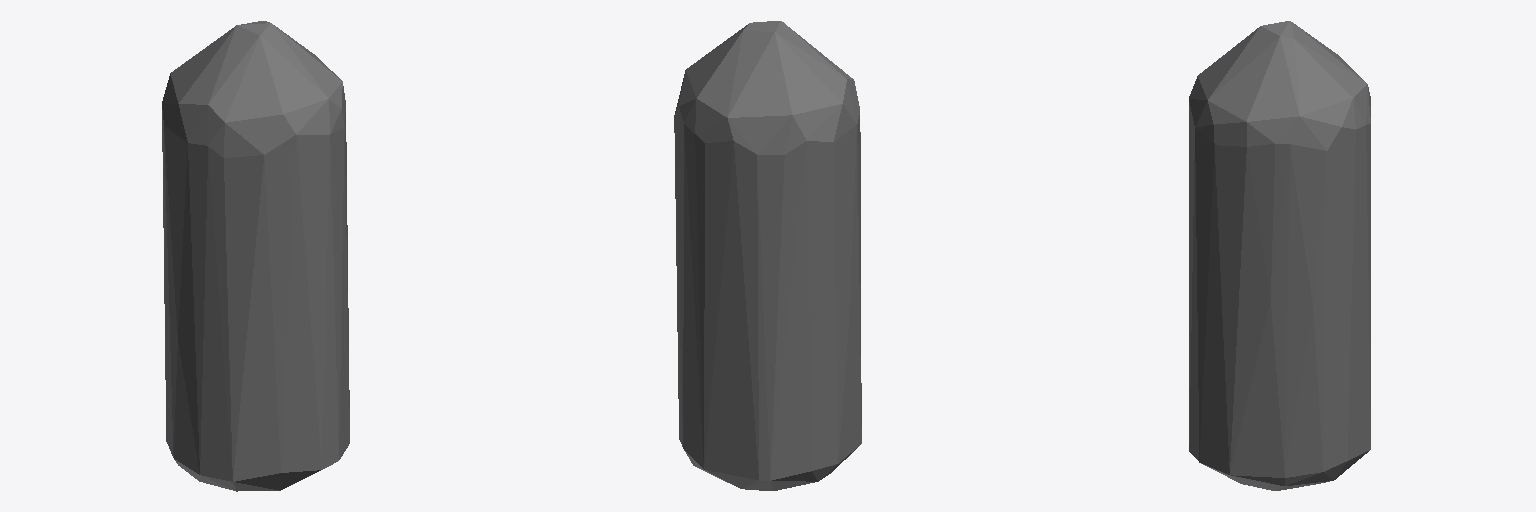
robot.urdf — spray_can_001:
<?xml version="1.0" ?>
<robot name="spray_can_001">
  <material name="color">
    <color rgba=".5 .5 .5 1"/>
  </material>

  <link name="base_link">
    <contact>
      <lateral_friction value="1.0"/>
      <rolling_friction value="0.001"/>
      <spinning_friction value="0.001"/>
      <inertia_scaling value="1.0"/>
    </contact>
    <inertial>
      <origin rpy="0 0 0" xyz="2.33424e-05 6.41749e-05 -0.0203519"/>
       <mass value="0.1"/>
       <inertia ixx="1" ixy="0" ixz="0" iyy="1" iyz="0" izz="1"/>
    </inertial>

    <visual>
      <origin rpy="0 0 0" xyz="0 0 0"/>
      <geometry>
        <mesh filename="spray_can_001_vhacd_0_of_1.obj" scale="1 1 1"/>
      </geometry>
      <material name="color"/>
    </visual>

    <collision>
      <origin rpy="0 0 0" xyz="0 0 0"/>
      <geometry>
        <mesh filename="spray_can_001_vhacd_0_of_1.obj" scale="1 1 1"/>
      </geometry>
    </collision>

  </link>
</robot>

--- Render facts (derived) ---
The picture shows the robot from 3 angles, left to right: view 1: azimuth 30°, elevation 25°; view 2: azimuth 150°, elevation 25°; view 3: azimuth 270°, elevation 25°; orthographic projection.
Robot: spray_can_001 — 1 links, 0 joints (none); root link base_link; default pose: every joint at zero.
Links seen in each view (by area): view 1: base_link; view 2: base_link; view 3: base_link.
Link boxes in pixels (x1=…): base_link: x1=162, y1=21, x2=349, y2=491; base_link: x1=674, y1=21, x2=861, y2=490; base_link: x1=1189, y1=21, x2=1370, y2=490.
Size in the robot's own frame: 0.0712 by 0.0714 by 0.1958 metres.
1 mesh visuals loaded from 1 distinct referenced files (1 OBJ).